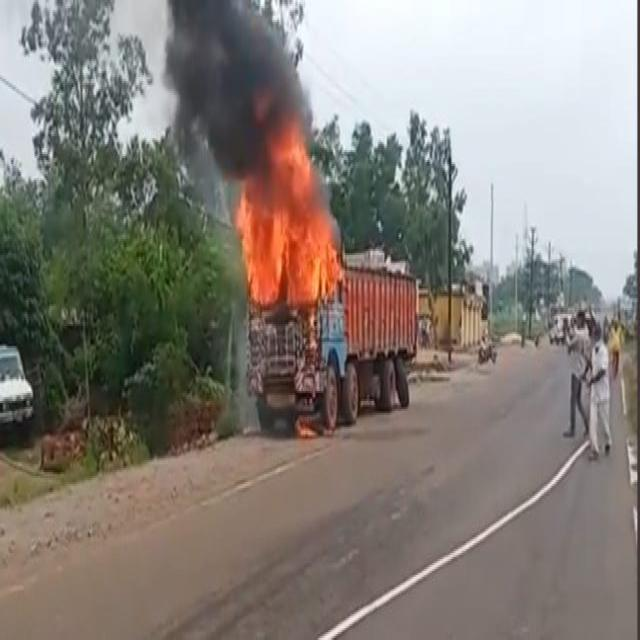accident: (236, 123, 416, 430)
